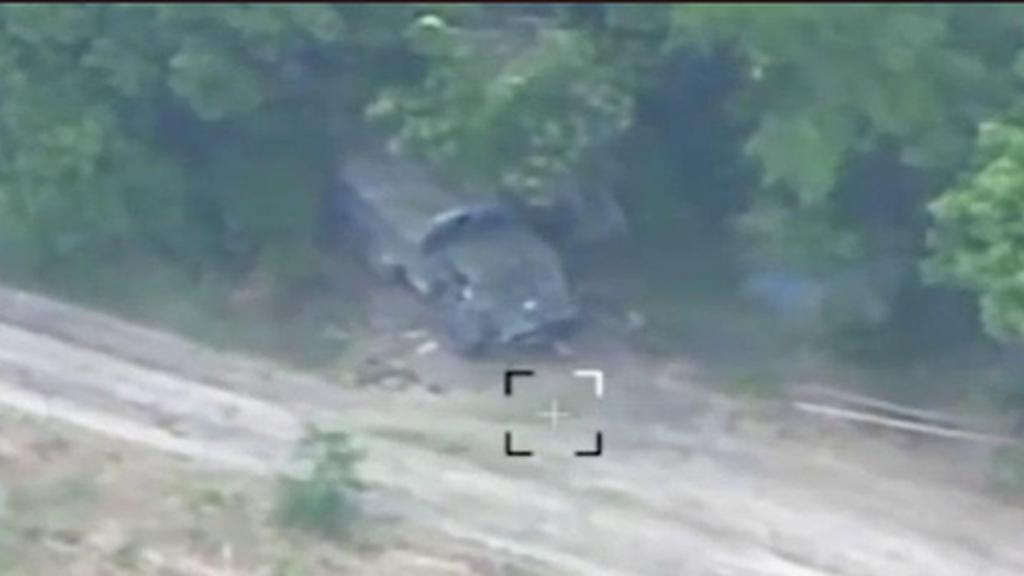TRUCK: (322, 122, 574, 352)
